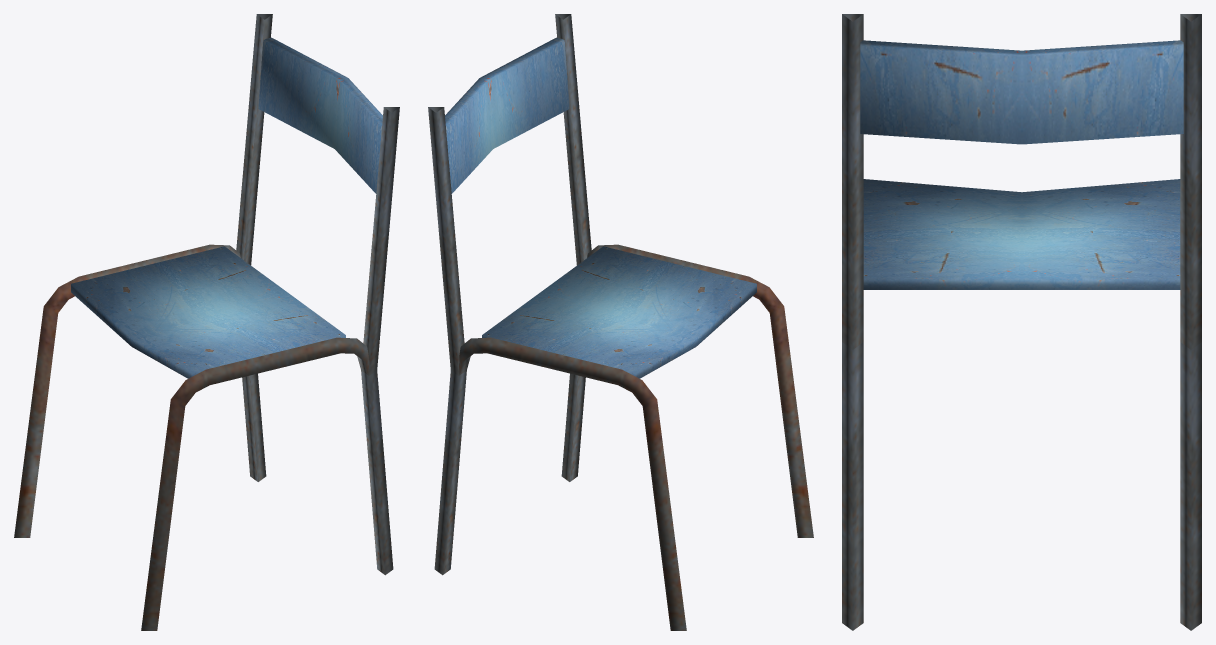
Rendered from Chair.obj.
The picture shows the model from 3 angles, left to right: view 1: azimuth 30°, elevation 25°; view 2: azimuth 150°, elevation 25°; view 3: azimuth 270°, elevation 25°; orthographic projection. The views are drawn at different scales.
Visible parts, largest first — view 1: Chair; view 2: Chair; view 3: Chair.
Boxes of the visible parts, x1,y1,x2,y2 form: Chair: (14, 14, 399, 630); Chair: (428, 14, 813, 630); Chair: (842, 14, 1201, 630).
Size of the model in its own units: 3.35 by 5.44 by 2.89.
